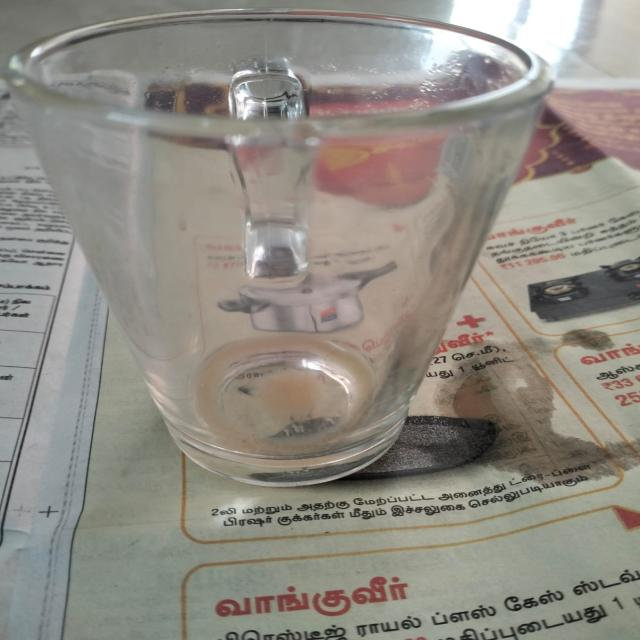glass-VX4N: (0, 8, 555, 485)
